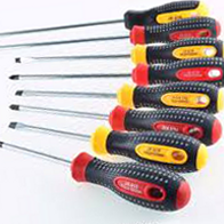Screwdriver: (3, 1, 222, 211)
